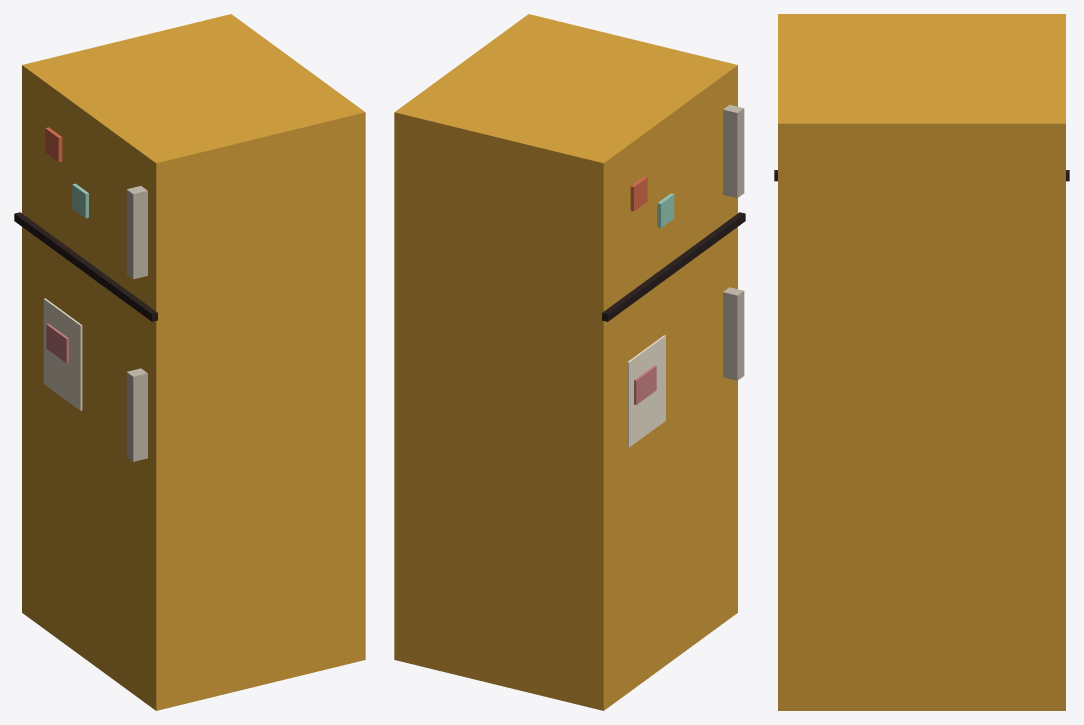
The model's file is fridge.glb.
3 views of the same model, side by side, from view 1: azimuth 30°, elevation 25°; view 2: azimuth 150°, elevation 25°; view 3: azimuth 270°, elevation 25° (orthographic). The views are drawn at different scales.
Visible parts, largest first — view 1: Box1, Box7, Box4, Box3, Box2, Box8; view 2: Box1, Box7, Box4, Box3, Box2, Box8; view 3: Box1.
Part boxes in pixels (box(x1,y1,x2,y2)): Box1: box(22, 14, 365, 710); Box7: box(43, 298, 82, 410); Box4: box(126, 368, 147, 461); Box3: box(126, 186, 147, 279); Box2: box(14, 212, 157, 321); Box8: box(46, 323, 68, 363); Box1: box(394, 14, 737, 710); Box7: box(627, 335, 665, 447); Box4: box(723, 287, 744, 380); Box3: box(723, 104, 744, 198); Box2: box(602, 212, 745, 321); Box8: box(634, 365, 656, 404); Box1: box(778, 14, 1065, 710).
Size of the model in its own units: 0.77 by 1.8 by 0.82.
